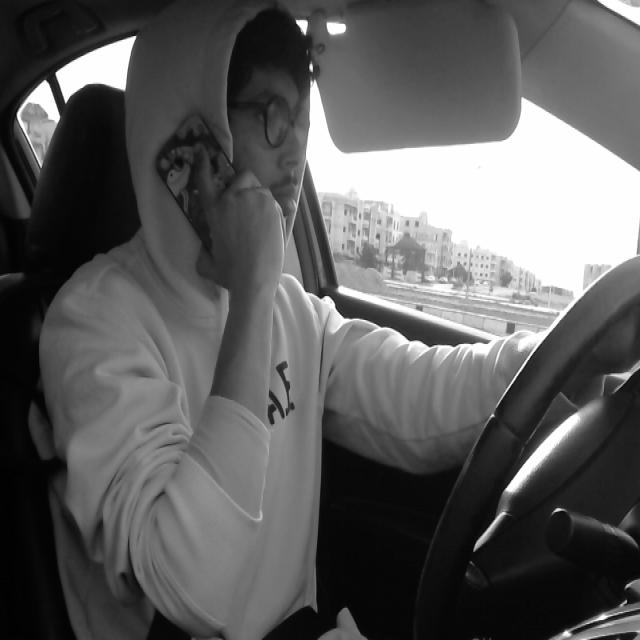mobile use: (150, 104, 262, 255)
